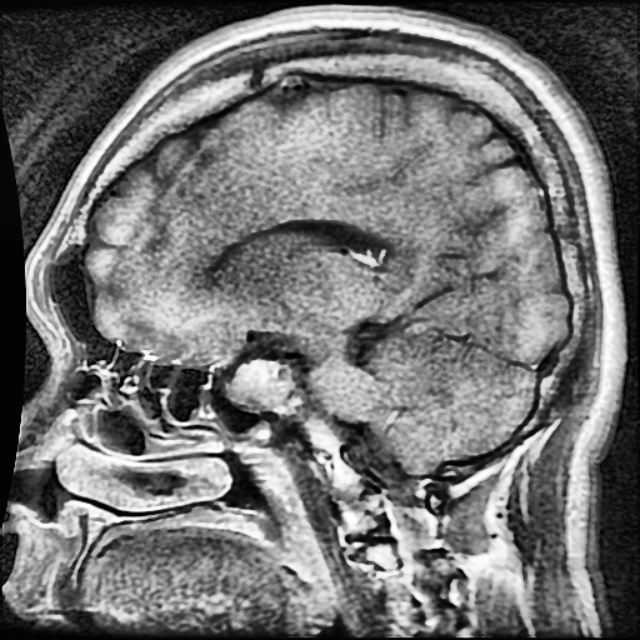Pituitary: (227, 359, 298, 413)
